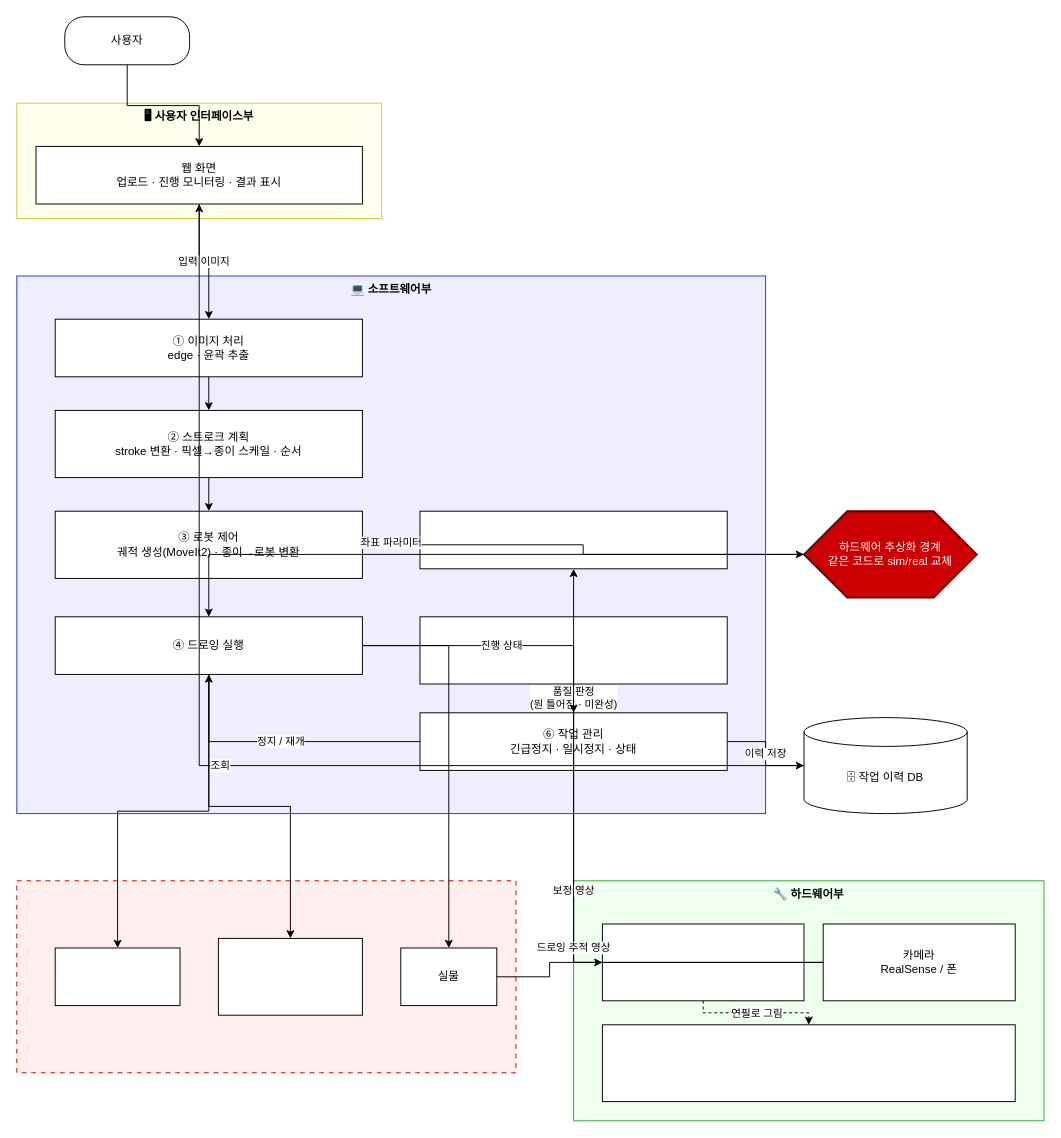
Some shapes in this 1061 by 1138 pixel diagram are drawn without their labels. Each missing label, with the box of its shape:
A4 종이 지그 · 작업대 (철제 책상 상판): (601, 1024, 1015, 1102)
IsaacSim (선택) (별도 PC): (217, 937, 362, 1015)
MuJoCo: (54, 947, 180, 1006)
⑤ 드로잉 모니터링 카메라로 그린 결과 추적 · 품질 검증: (419, 616, 727, 684)
⓪ 캘리브레이션 eye-to-hand · 종이 위치: (419, 510, 727, 569)
로봇암 HCR-5 + 스프링 펜홀더: (601, 923, 804, 1001)
🧪 검증 환경 (교체 가능): (16, 880, 516, 1073)
